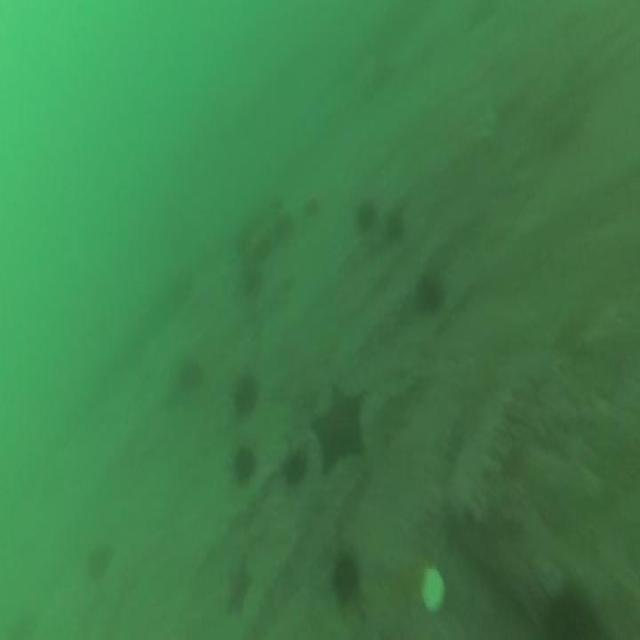echinus: (546, 583, 604, 640), (330, 546, 361, 612), (411, 269, 449, 319), (231, 367, 262, 420), (176, 352, 205, 400), (230, 441, 258, 488), (88, 537, 116, 583), (354, 191, 380, 239), (382, 202, 407, 248), (283, 449, 309, 490)
scallop: (417, 564, 447, 615)
starfish: (306, 374, 372, 482), (220, 554, 254, 626)
